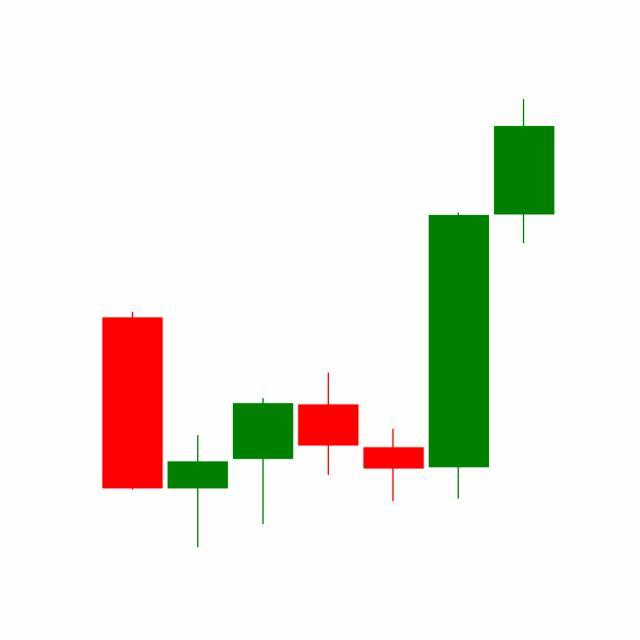Morning Star: (295, 210, 492, 505)
